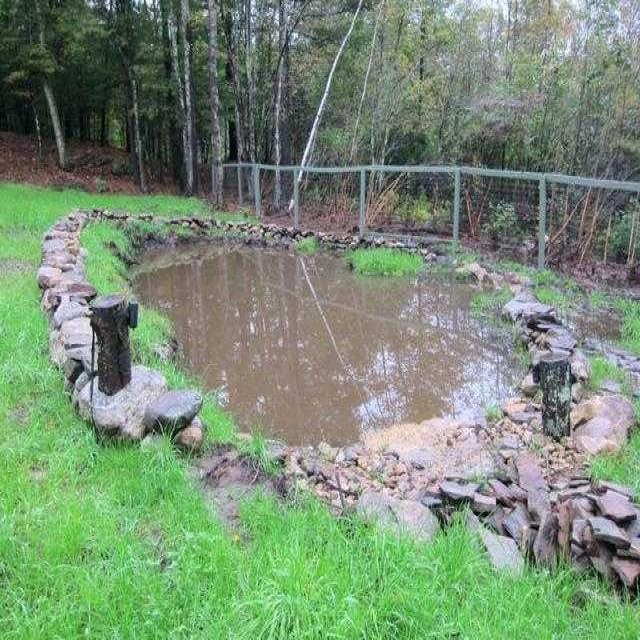Ponds: (43, 209, 640, 582)
